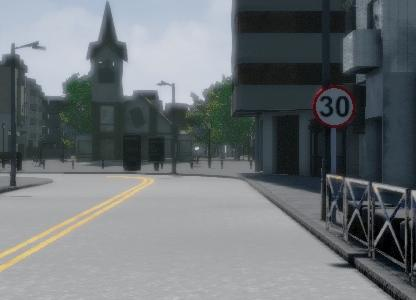Speed_30: (309, 83, 357, 130)
